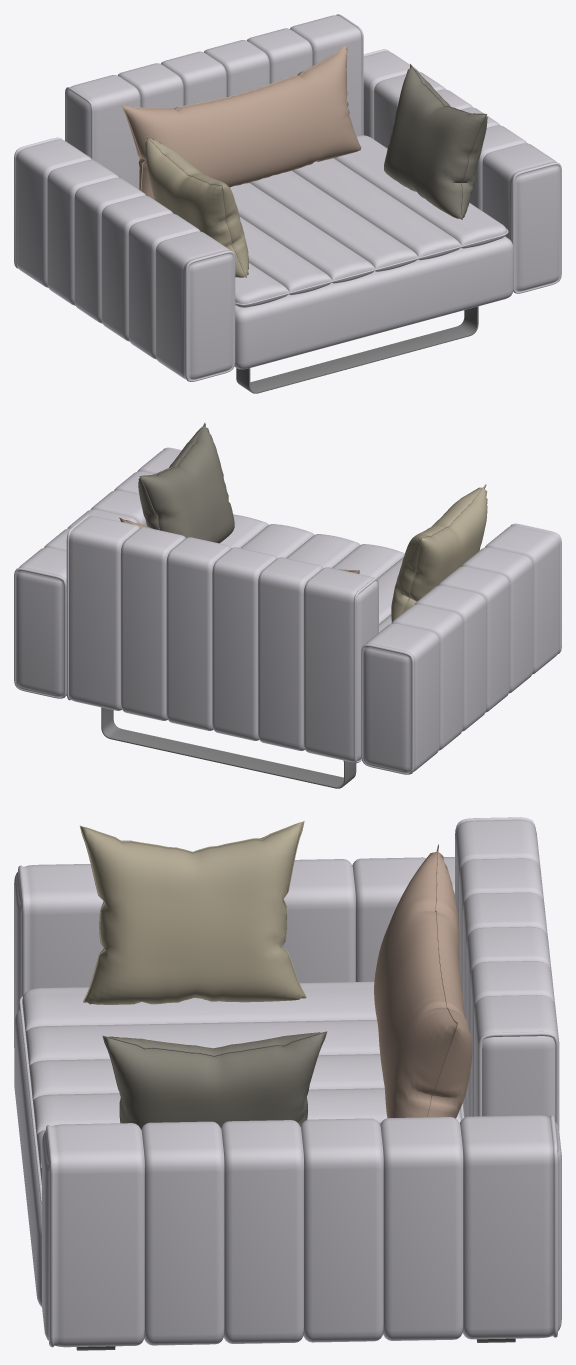
File: setsillon1.glb
3 renders of one model, top to bottom at view 1: azimuth 30°, elevation 25°; view 2: azimuth 150°, elevation 25°; view 3: azimuth 270°, elevation 25°, orthographic. The views are drawn at different scales.
Visible parts, largest first — view 1: Box040.003, Cube.006, Cube.005, Cube.011; view 2: Box040.003, Cube.005, Cube.011; view 3: Box040.003, Cube.011, Cube.006, Cube.005.
Part boxes in pixels (x1,y1,x2,y2): Box040.003: (14, 14, 561, 393); Cube.006: (122, 44, 361, 199); Cube.005: (384, 64, 487, 219); Cube.011: (145, 135, 248, 277); Box040.003: (14, 447, 561, 788); Cube.005: (138, 422, 234, 543); Cube.011: (391, 484, 487, 622); Box040.003: (14, 817, 561, 1350); Cube.011: (80, 821, 306, 1004); Cube.006: (374, 844, 472, 1118); Cube.005: (102, 1031, 327, 1129).
Bounding box in the file's own units: 2.79 × 1.41 × 2.09.
